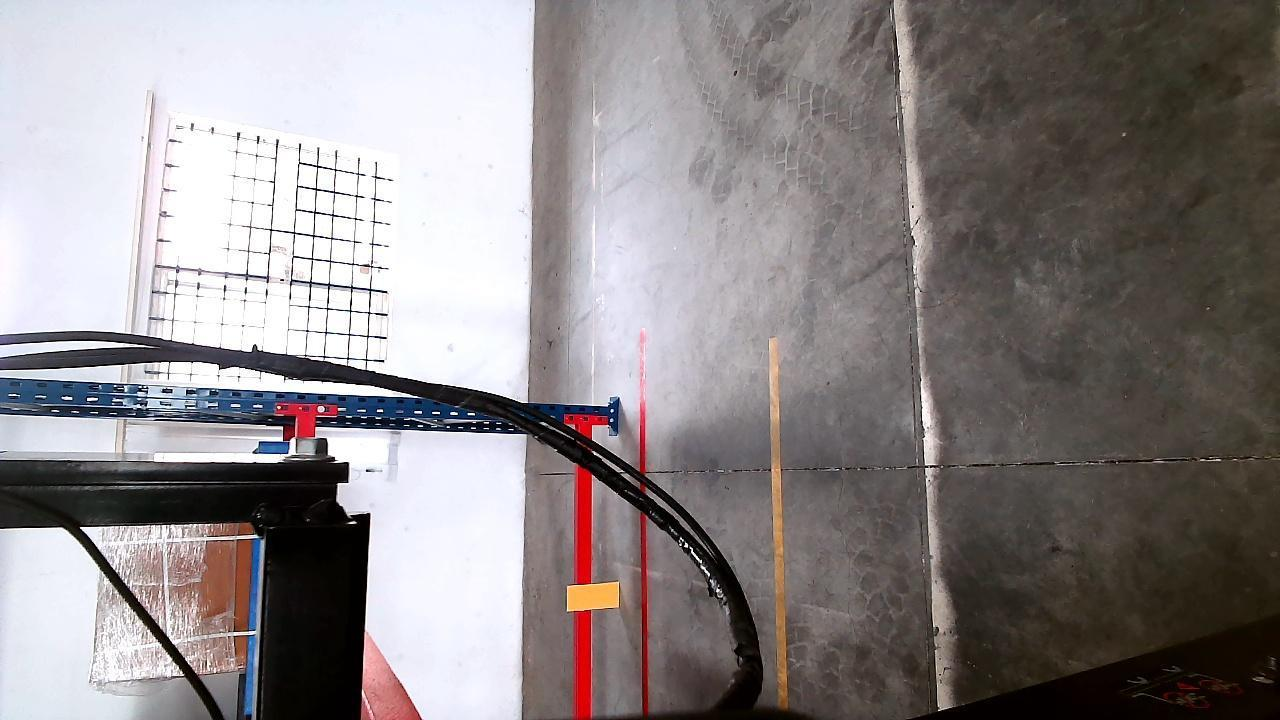h_rack: (576, 430, 593, 720)
orange_strip: (569, 581, 617, 614)
red_line: (640, 330, 654, 708)
yellow_line: (769, 336, 792, 708)
